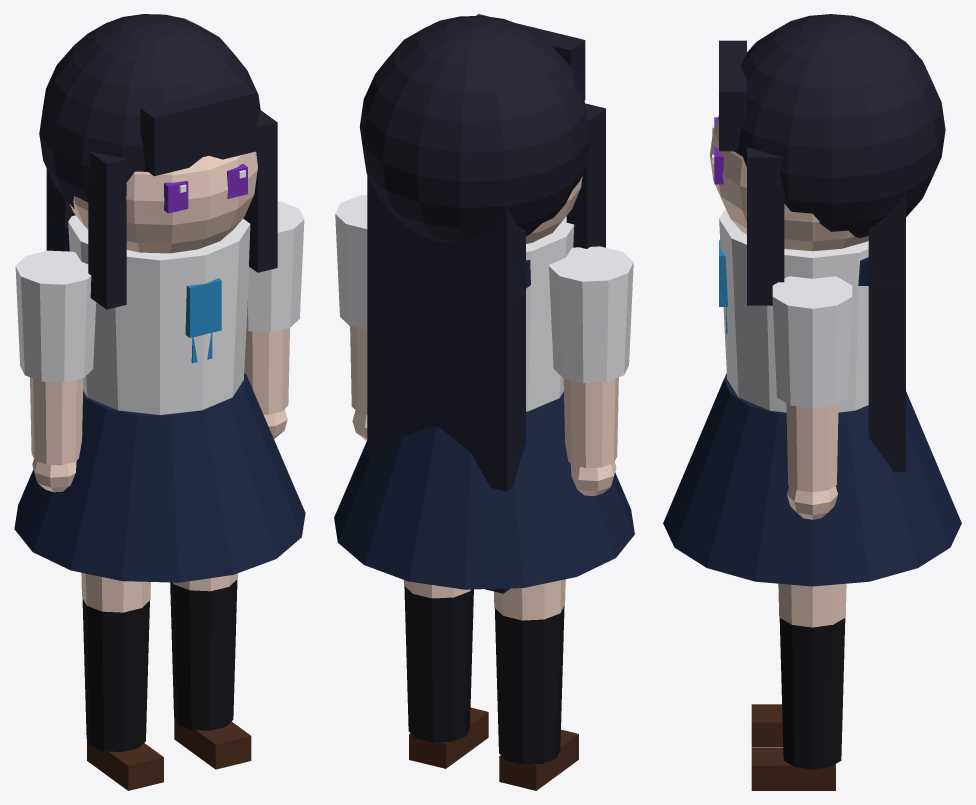
Rendered from chitanda_eru.obj.
The picture shows the model from 3 angles, left to right: view 1: azimuth 30°, elevation 25°; view 2: azimuth 150°, elevation 25°; view 3: azimuth 270°, elevation 25°; orthographic projection. The views are drawn at different scales.
Bounding box in the file's own units: 0.7 × 1.74 × 0.64.
